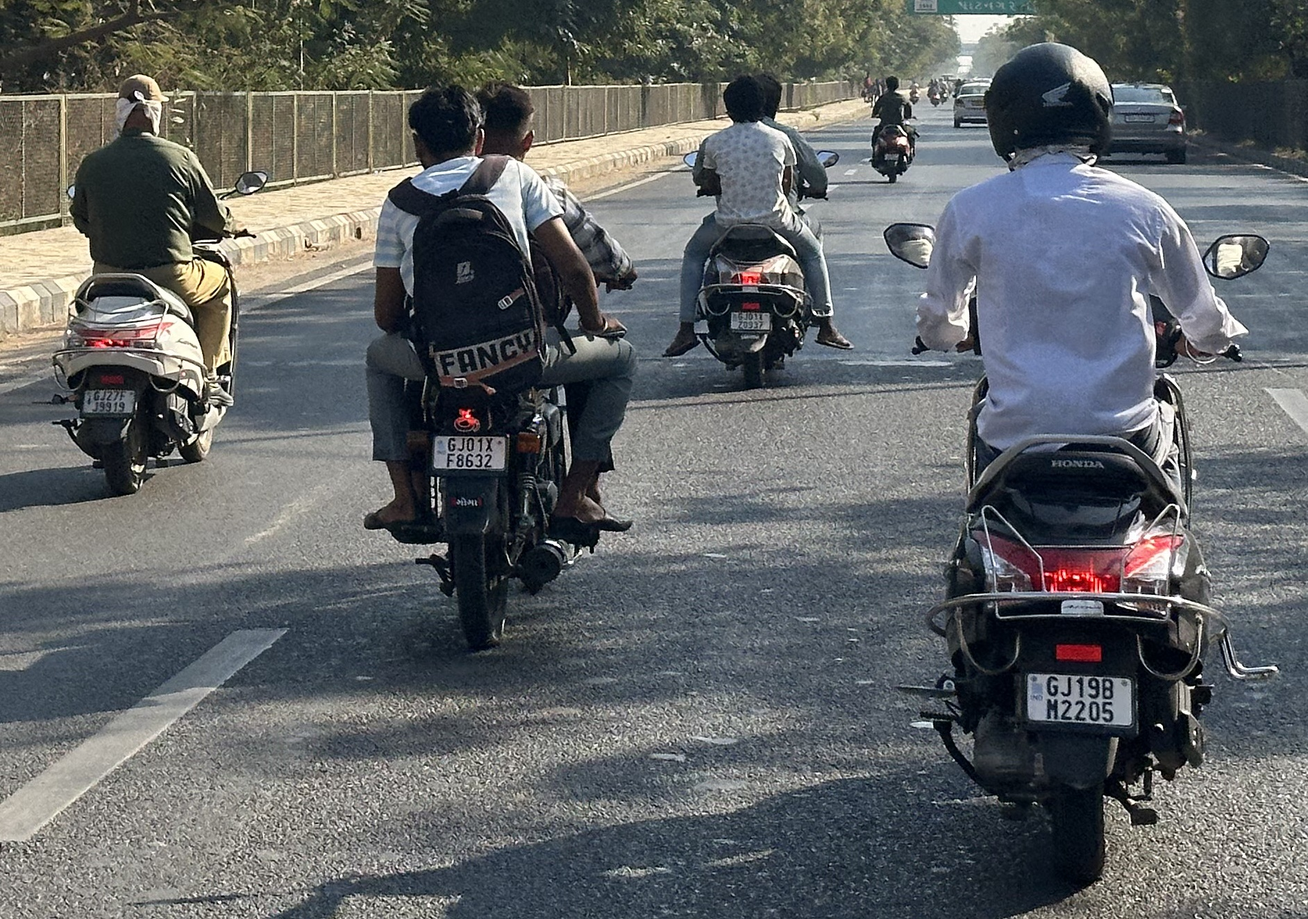BikeWithRider: (874, 33, 1283, 896), (344, 70, 651, 658), (37, 64, 274, 503), (657, 62, 860, 395), (861, 70, 927, 186)
Helmet: (971, 33, 1128, 176)
NoHelmet: (398, 78, 486, 174), (467, 76, 546, 166), (101, 67, 178, 146), (716, 69, 765, 128), (745, 67, 787, 124)
